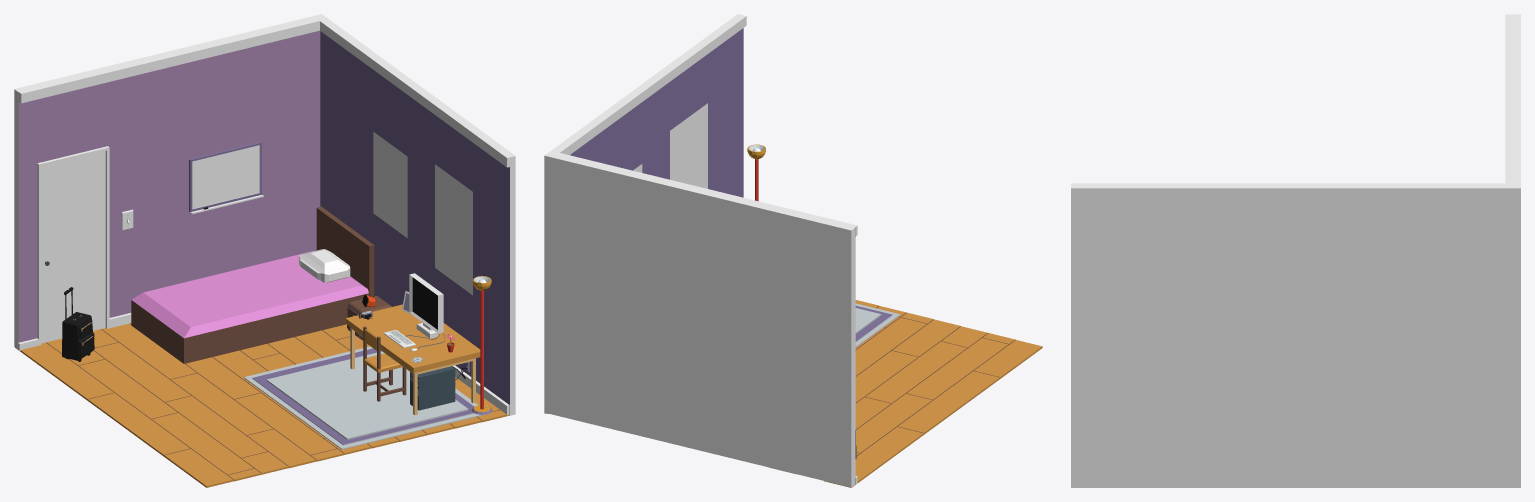
The model's file is room4.glb.
The picture shows the model from 3 angles, left to right: view 1: azimuth 30°, elevation 25°; view 2: azimuth 150°, elevation 25°; view 3: azimuth 270°, elevation 25°; orthographic projection. The views are drawn at different scales.
Visible parts, largest first — view 1: Node, Plane, Plane.001; view 2: Node, Plane; view 3: Node.
Part boxes in pixels (x1,y1,x2,y2): Node: (14,14,515,487); Plane: (435,164,472,295); Plane.001: (373,132,407,237); Node: (544,14,1042,487); Plane: (670,103,707,188); Node: (1071,14,1520,487).
Bounding box in the file's own units: 3.71 × 2.97 × 4.04.
